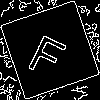F: (25, 25, 73, 80)
